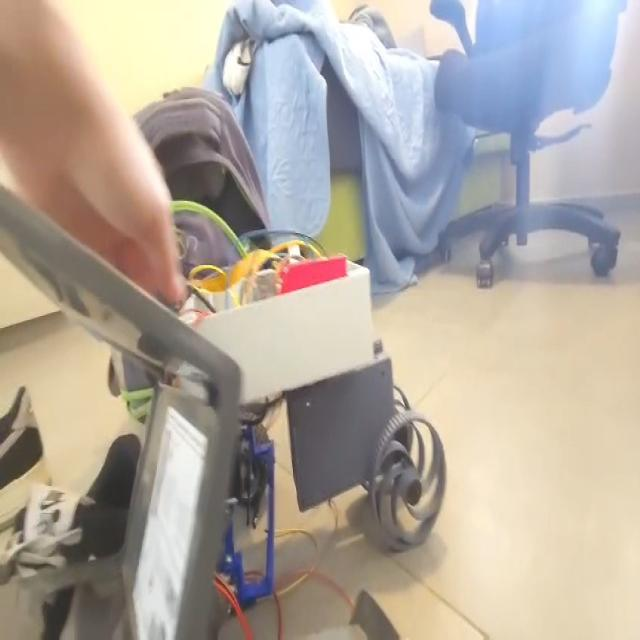Robot: (169, 248, 446, 616)
